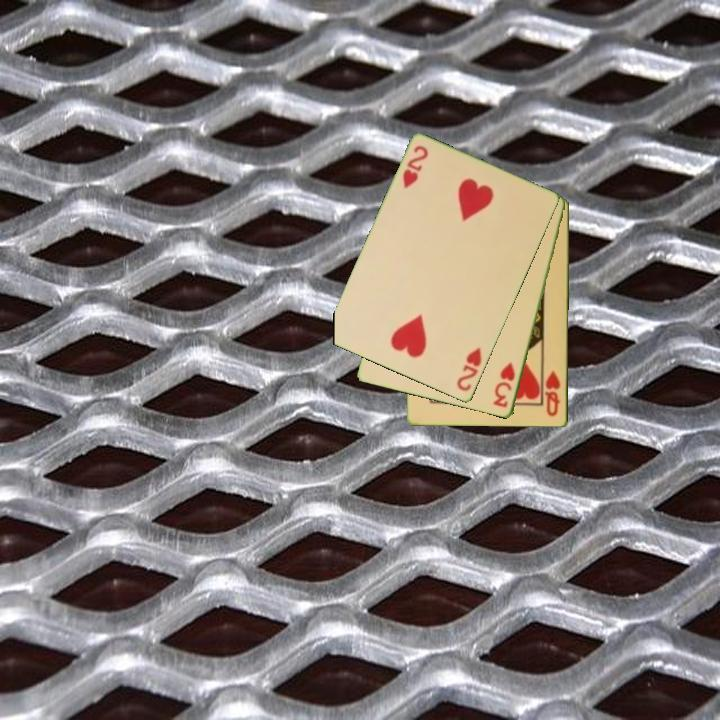2h: (453, 344, 485, 395), (399, 142, 431, 192)
3h: (490, 359, 518, 411)
Qh: (542, 368, 563, 419)
